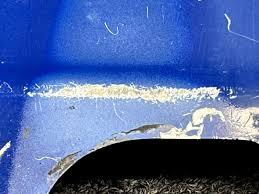Fuselage_damage: (217, 10, 257, 48), (87, 14, 134, 41)
